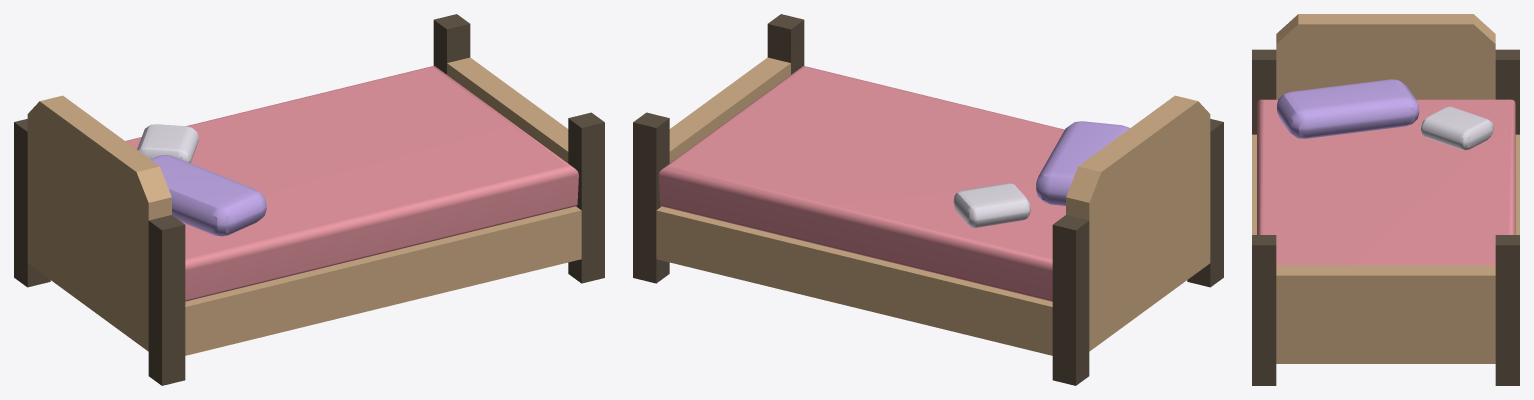
The model's file is Props (Sadece Yatak Export) (1).fbx.
The picture shows the model from 3 angles, left to right: view 1: azimuth 30°, elevation 25°; view 2: azimuth 150°, elevation 25°; view 3: azimuth 270°, elevation 25°; orthographic projection. The views are drawn at different scales.
Visible parts, largest first — view 1: Yatak, Yatak_Başlığı, Sütunlar, Büyük_yastık, Küçük_Yastık; view 2: Yatak, Yatak_Başlığı, Sütunlar, Büyük_yastık, Küçük_Yastık; view 3: Yatak_Başlığı, Yatak, Sütunlar, Büyük_yastık, Küçük_Yastık.
Boxes of the visible parts, x1,y1,x2,y2 form: Yatak: (125,66,578,301); Yatak_Başlığı: (27,57,581,355); Sütunlar: (14,14,604,385); Büyük_yastık: (150,155,266,236); Küçük_Yastık: (137,124,198,162); Yatak: (658,66,1065,301); Yatak_Başlığı: (656,57,1210,355); Sütunlar: (633,14,1223,385); Büyük_yastık: (1036,121,1129,205); Küçük_Yastık: (953,183,1030,227); Yatak_Başlığı: (1252,14,1519,363); Yatak: (1257,99,1515,265); Sütunlar: (1252,49,1519,385); Büyük_yastık: (1277,79,1419,138); Küçük_Yastık: (1421,106,1493,150).
Bounding box in the file's own units: 19 × 8 × 11.
